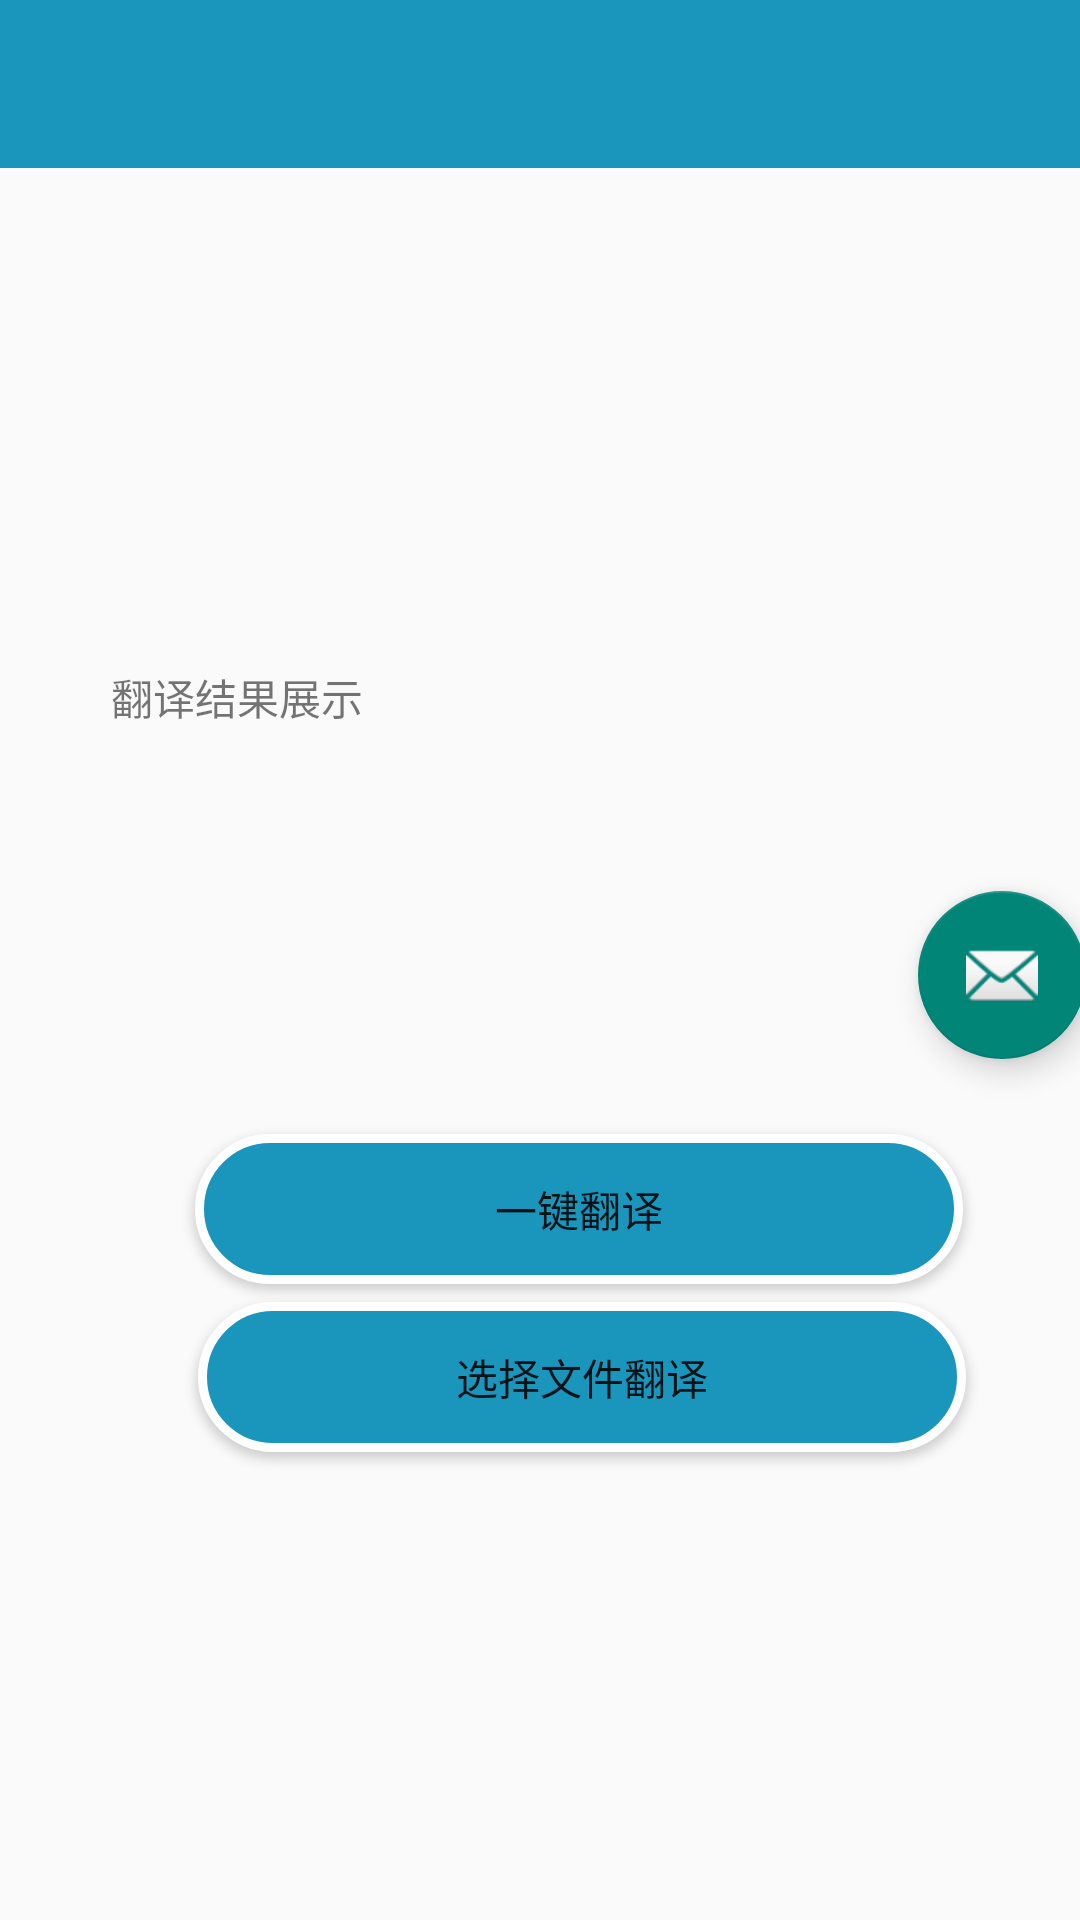

Named icons in this screenshot (1080x1920) and their bounding boxes, (x1, y1, x2, y2):
email: (918, 891, 1080, 1059)
